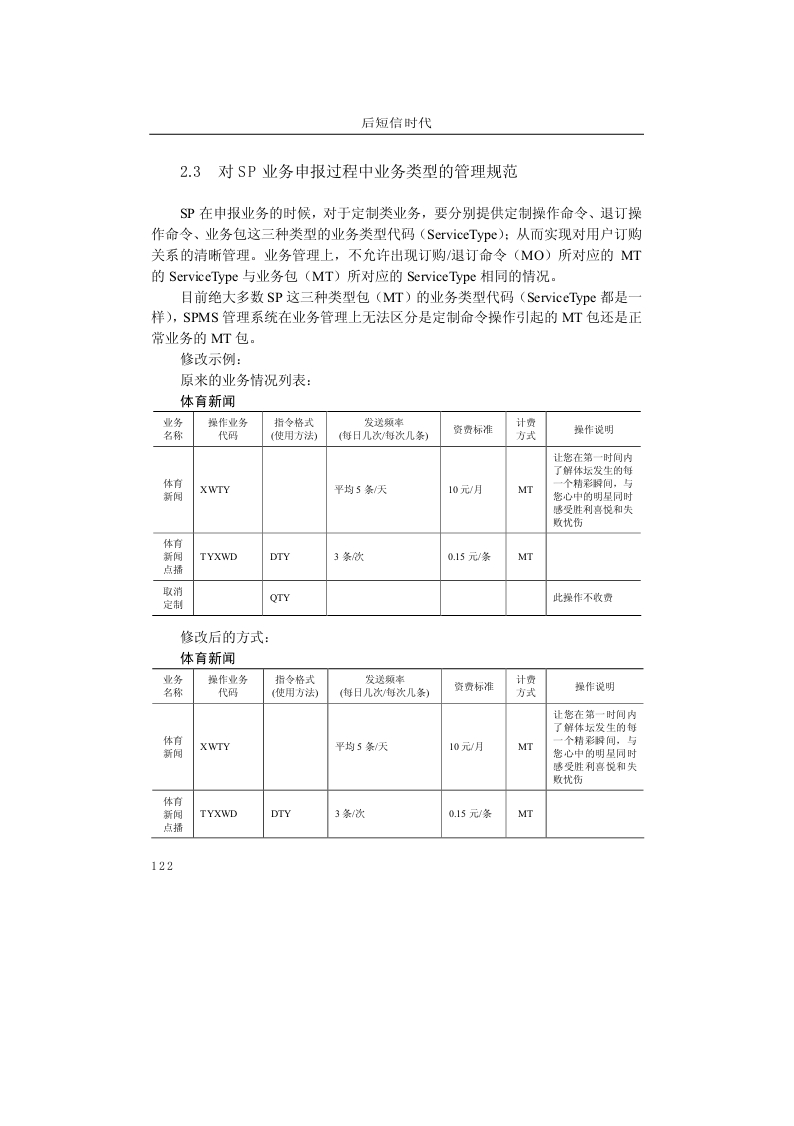table: (152, 410, 641, 615), (151, 667, 642, 839)
